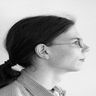ear: (31, 36, 55, 65)
